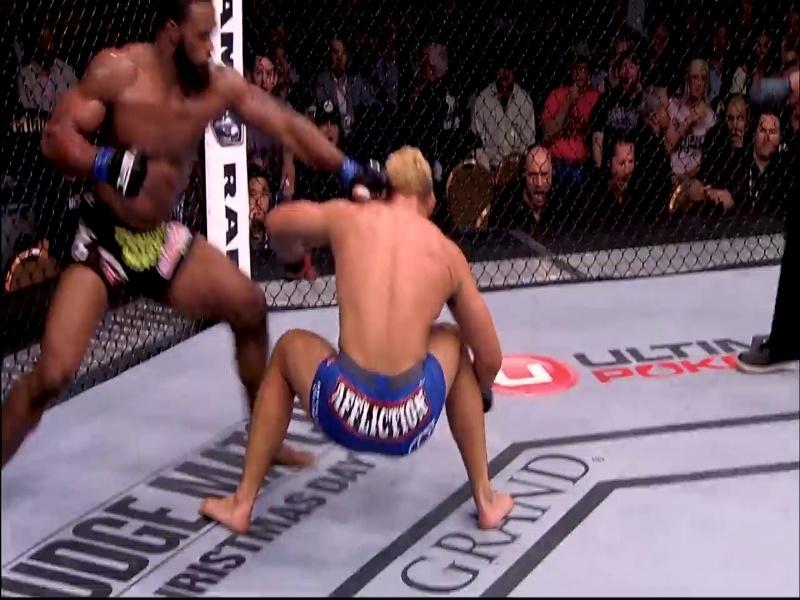fighter: (15, 1, 398, 514), (200, 144, 548, 552)
